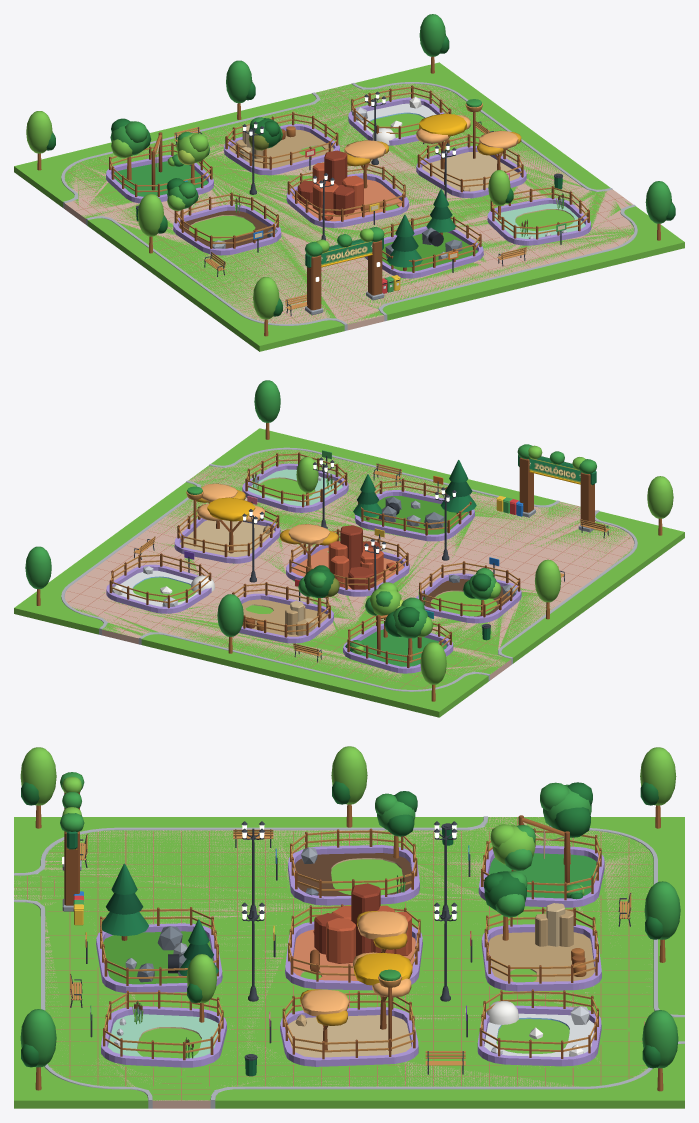
The model's file is zoologico.glb.
The picture shows the model from 3 angles, top to bottom: view 1: azimuth 30°, elevation 25°; view 2: azimuth 150°, elevation 25°; view 3: azimuth 270°, elevation 25°; orthographic projection. The views are drawn at different scales.
Parts seen in each view (by area): view 1: zoologico, colisao_chao; view 2: zoologico, colisao_chao; view 3: zoologico, colisao_chao.
Boxes of the visible parts, x1=… form: zoologico: x1=14, y1=14, x2=684, y2=351; colisao_chao: x1=14, y1=62, x2=684, y2=345; zoologico: x1=14, y1=380, x2=684, y2=717; colisao_chao: x1=14, y1=428, x2=684, y2=711; zoologico: x1=14, y1=746, x2=684, y2=1108; colisao_chao: x1=14, y1=817, x2=684, y2=1100.
Bounding box in the file's own units: 30 × 5.31 × 30.
4 materials, 2 textured.
